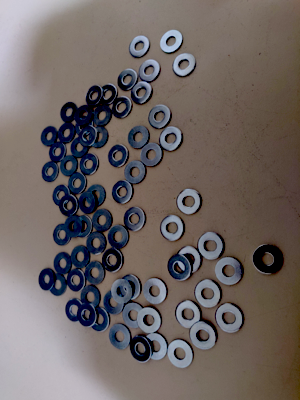circle: (253, 245, 284, 275), (216, 304, 244, 332), (190, 322, 218, 350), (216, 257, 243, 285), (198, 232, 225, 260), (195, 279, 221, 308), (168, 340, 194, 368), (176, 301, 201, 329), (177, 189, 203, 215), (168, 254, 192, 281), (138, 308, 162, 335), (178, 247, 202, 273), (144, 334, 168, 360), (131, 336, 154, 363), (161, 215, 184, 242), (144, 279, 168, 304), (119, 274, 142, 300), (173, 53, 197, 77), (124, 160, 147, 185), (123, 303, 146, 327), (160, 127, 183, 151), (149, 105, 172, 129), (128, 125, 151, 149), (112, 180, 134, 205), (124, 206, 146, 231), (108, 224, 130, 249), (102, 248, 124, 273), (110, 324, 131, 350), (141, 143, 163, 167), (108, 144, 130, 168), (112, 279, 133, 304), (90, 306, 110, 332), (131, 81, 153, 104), (161, 30, 183, 53), (88, 125, 110, 148), (104, 290, 125, 314), (85, 261, 106, 285), (66, 269, 87, 292), (139, 60, 160, 83), (71, 245, 92, 268), (65, 299, 85, 323), (53, 223, 73, 247), (93, 209, 113, 233), (86, 184, 106, 208), (75, 115, 96, 137), (92, 105, 113, 127), (81, 286, 101, 309), (118, 69, 138, 92), (130, 36, 150, 59), (68, 172, 88, 195), (78, 303, 97, 327), (74, 215, 93, 239), (70, 137, 91, 158), (112, 97, 132, 119), (80, 153, 100, 175), (49, 274, 68, 297), (54, 252, 73, 275), (74, 105, 94, 126), (79, 126, 99, 147), (60, 155, 79, 177), (65, 215, 83, 238), (79, 192, 97, 215), (58, 122, 77, 143), (99, 84, 118, 105), (60, 195, 78, 217), (53, 185, 71, 207), (61, 102, 79, 123), (39, 269, 56, 291), (42, 162, 60, 182), (49, 142, 67, 162), (41, 126, 59, 146), (86, 85, 104, 105)
